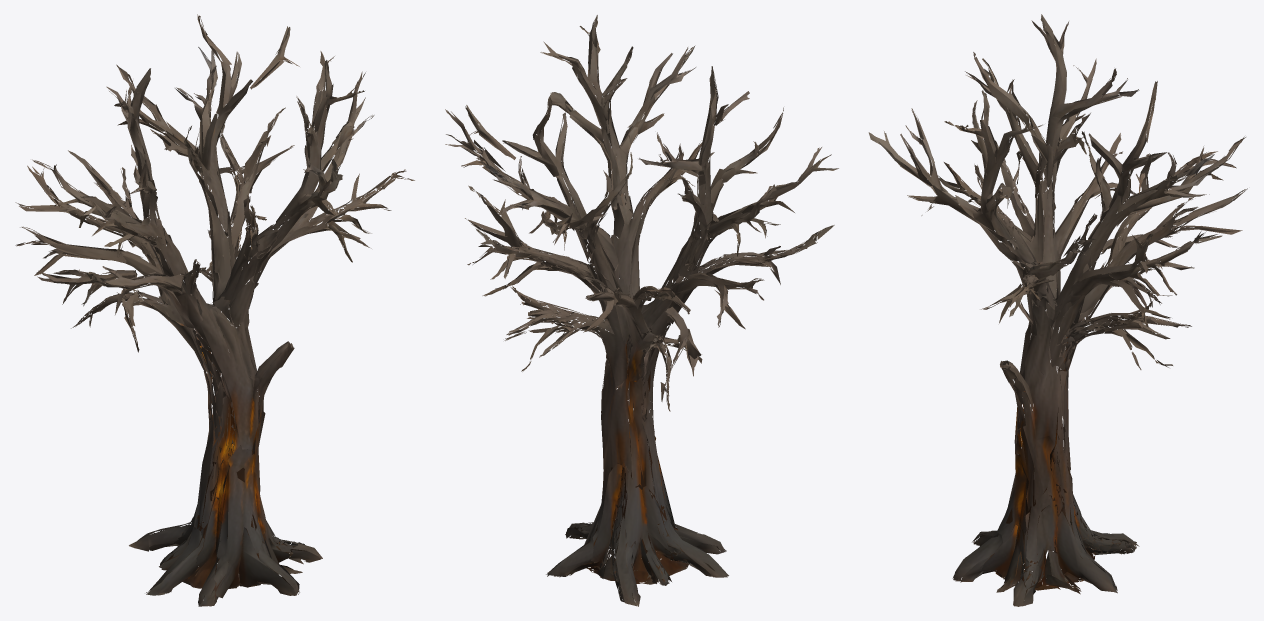
File: tree_dead_real.glb
The picture shows the model from 3 angles, left to right: view 1: azimuth 30°, elevation 25°; view 2: azimuth 150°, elevation 25°; view 3: azimuth 270°, elevation 25°; orthographic projection.
Visible parts, largest first — view 1: Object_2; view 2: Object_2; view 3: Object_2.
Part boxes in pixels (x1=…): Object_2: x1=15, y1=14, x2=414, y2=606; Object_2: x1=445, y1=15, x2=838, y2=606; Object_2: x1=868, y1=14, x2=1247, y2=606.
Bounding box in the file's own units: 6.36 × 9 × 5.97.
1 material, 1 textured.
